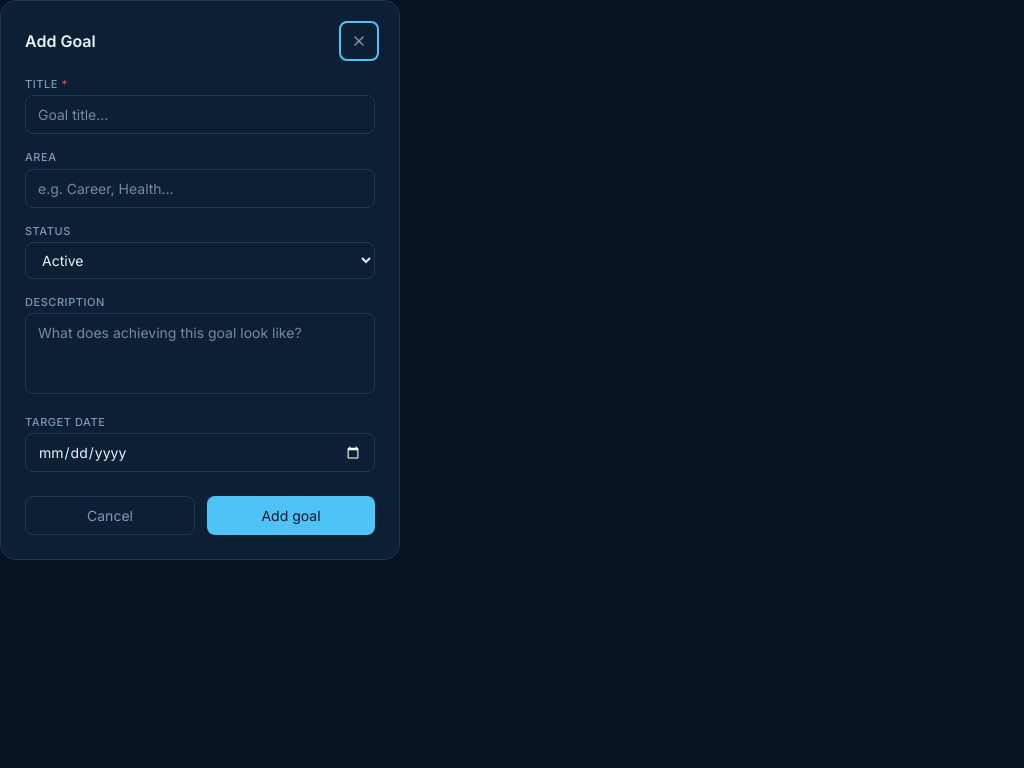
GoalModal — Create mode › shows save-failed error on 5xx and keeps dialog open
Type "My goal" into the field labelled "Title *" at (200, 115), box [25,95,375,134]
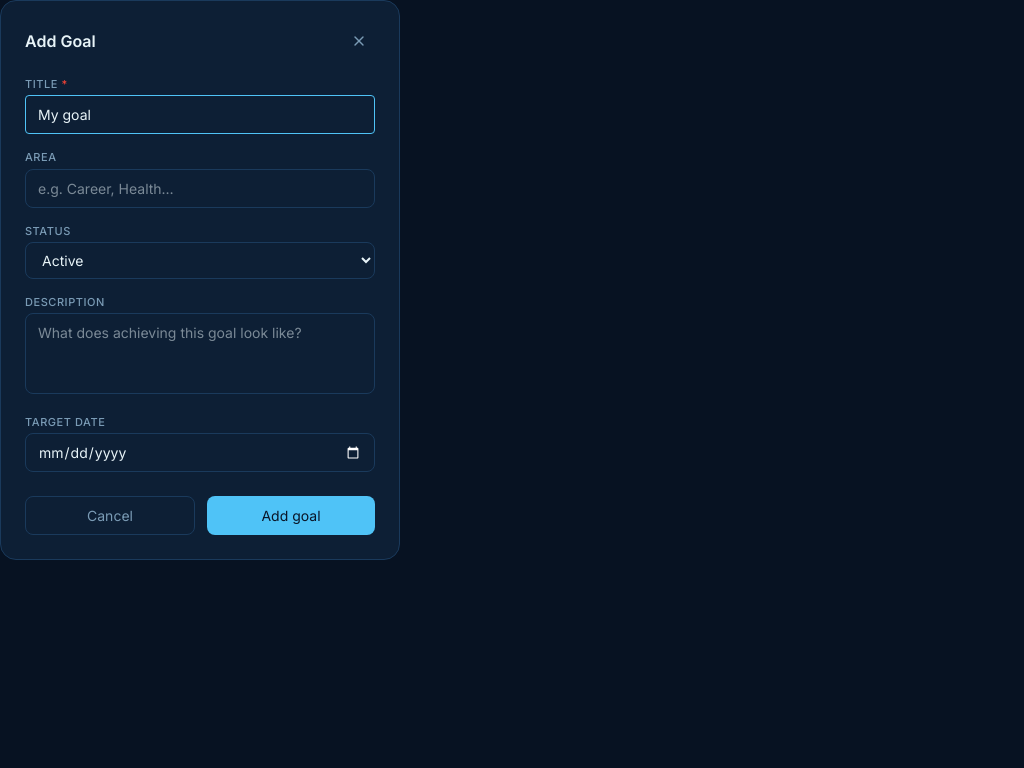
Click the button "Add goal" at (291, 516), box [207,496,375,536]
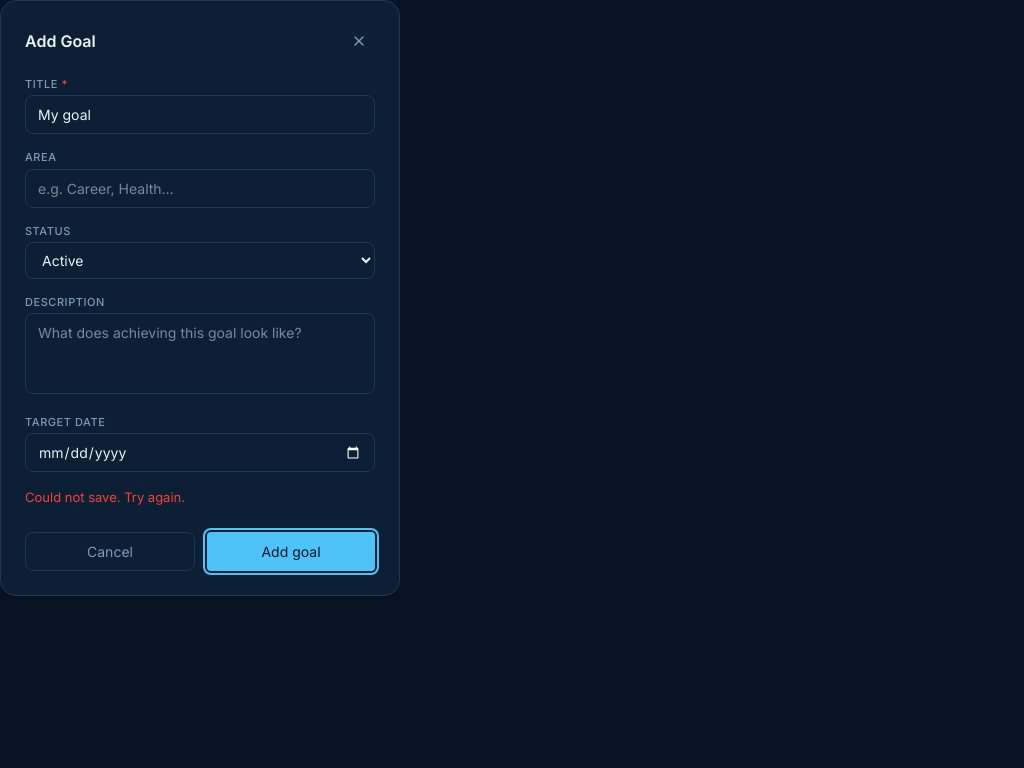
Expected: the text "Could not save. Try again." is shown, [25,490,185,506]
